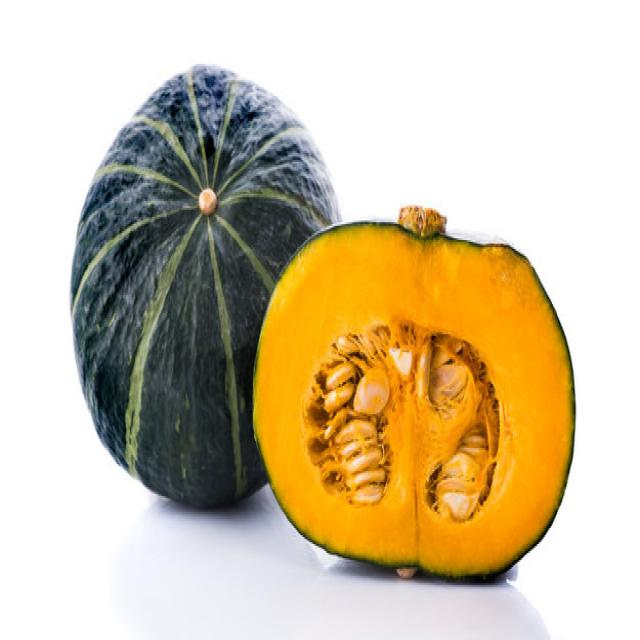Pumpkin: (251, 203, 576, 581), (69, 61, 341, 508)
